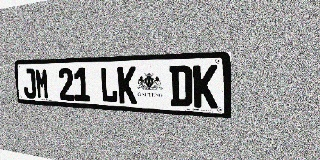1: (73, 67, 90, 102)
2: (58, 68, 74, 101)
D: (169, 65, 193, 107)
J: (23, 68, 37, 99)
K: (193, 65, 218, 108), (117, 66, 137, 104)
L: (100, 67, 118, 103)
M: (35, 68, 49, 99)
